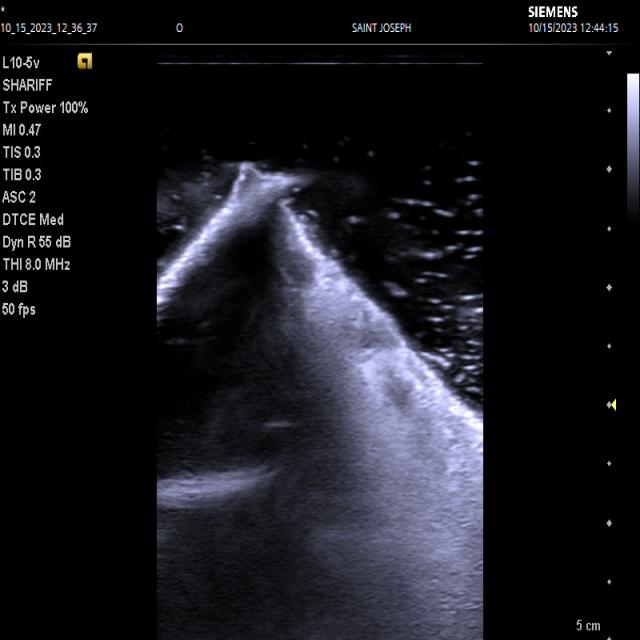tissue: (157, 178, 484, 640)
